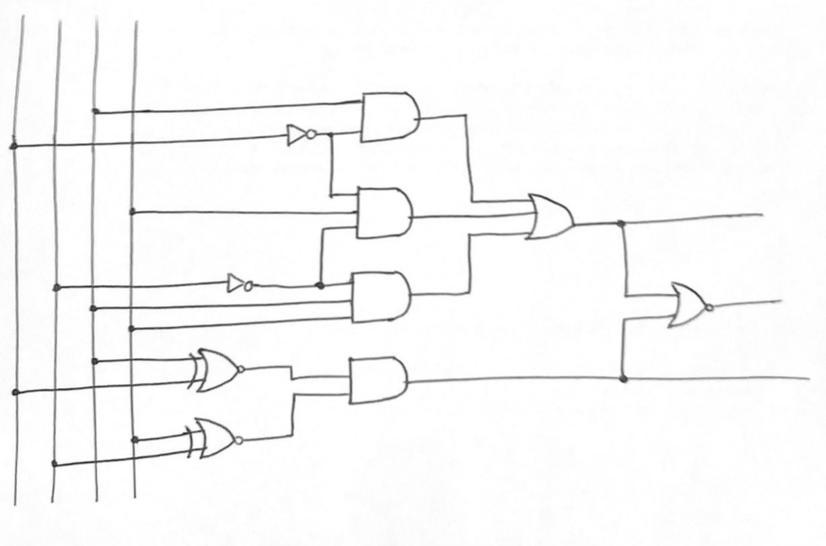AND: (346, 181, 425, 254), (353, 82, 432, 154), (344, 267, 422, 333), (334, 353, 418, 408)
NOR: (663, 276, 728, 341)
NOT: (279, 119, 320, 149), (222, 268, 257, 299)
OR: (521, 187, 587, 251)
XNOR: (179, 412, 254, 469), (181, 342, 251, 397)
